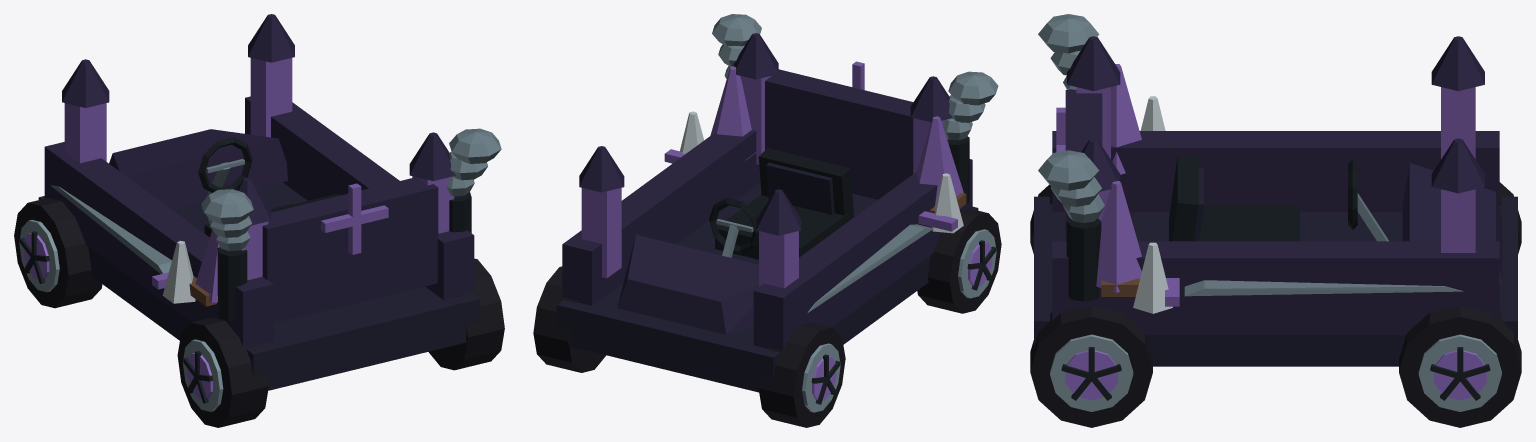
Rendered from kart.glb.
The picture shows the model from 3 angles, left to right: view 1: azimuth 30°, elevation 25°; view 2: azimuth 150°, elevation 25°; view 3: azimuth 270°, elevation 25°; orthographic projection. The views are drawn at different scales.
Parts seen in each view (by area): view 1: identity-reliquary-reliquary-arched-stone-chest, identity-reliquary-motif-smoke, wheel-rear-left, wheel-front-left, wheel-rear-right, identity-reliquary-motif-crystals, identity-reliquary-motif-swords, identity-reliquary-driver-cockpit; view 2: identity-reliquary-reliquary-arched-stone-chest, identity-reliquary-driver-cockpit, wheel-front-left, wheel-rear-left, identity-reliquary-motif-crystals, identity-reliquary-motif-smoke, wheel-front-right, identity-reliquary-motif-swords; view 3: identity-reliquary-reliquary-arched-stone-chest, wheel-front-right, wheel-rear-right, identity-reliquary-motif-smoke, identity-reliquary-driver-cockpit, identity-reliquary-motif-crystals, identity-reliquary-motif-swords.
Boxes of the visible parts, box(x1,y1,x2,y2) form: identity-reliquary-reliquary-arched-stone-chest: box(38, 14, 480, 390); identity-reliquary-motif-smoke: box(201, 128, 501, 320); wheel-rear-left: box(177, 317, 268, 427); wheel-front-left: box(14, 198, 102, 308); wheel-rear-right: box(428, 258, 504, 370); identity-reliquary-motif-crystals: box(162, 230, 219, 303); identity-reliquary-motif-swords: box(51, 185, 216, 306); identity-reliquary-driver-cockpit: box(198, 137, 340, 237); identity-reliquary-reliquary-arched-stone-chest: box(556, 33, 978, 392); identity-reliquary-driver-cockpit: box(709, 148, 853, 259); wheel-front-left: box(758, 322, 845, 427); wheel-rear-left: box(917, 208, 1001, 313); identity-reliquary-motif-crystals: box(680, 66, 963, 233); identity-reliquary-motif-smoke: box(712, 14, 998, 204); wheel-front-right: box(533, 266, 605, 372); identity-reliquary-motif-swords: box(664, 149, 966, 312); identity-reliquary-reliquary-arched-stone-chest: box(1034, 36, 1517, 366); wheel-front-right: box(1399, 305, 1521, 427); wheel-rear-right: box(1030, 305, 1152, 427); identity-reliquary-motif-smoke: box(1038, 14, 1104, 301); identity-reliquary-driver-cockpit: box(1169, 155, 1388, 241); identity-reliquary-motif-crystals: box(1096, 64, 1172, 313); identity-reliquary-motif-swords: box(1101, 278, 1462, 306).
Size of the model in its own units: 2.04 by 1.53 by 2.56.
